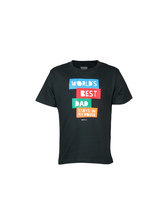clothoes: (31, 57, 138, 168)
